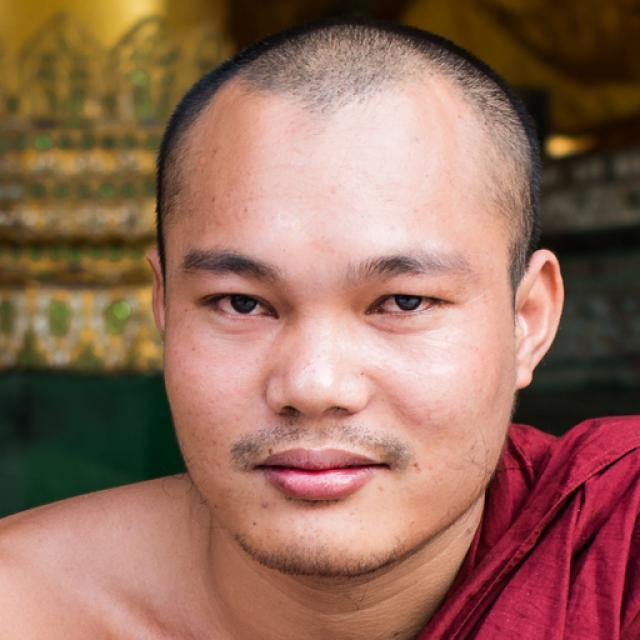content: (163, 95, 516, 581)
